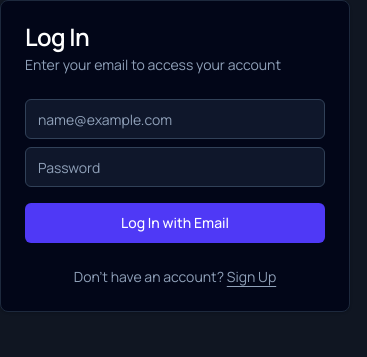
it: LoginForm › shows invalid credentials
This screenshot has width=367, height=357.
Type "ana@example.com" into the field with placeholder "name@example.com" at (175,119), box [25,99,325,139]
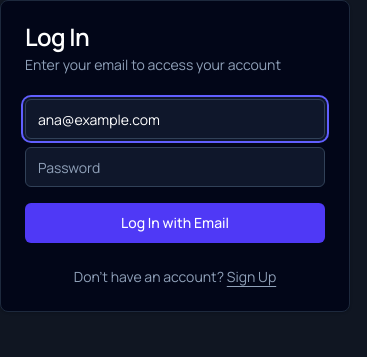
Type "bad-password-123" into the password field with placeholder "Password" at (175,167), box [25,147,325,187]
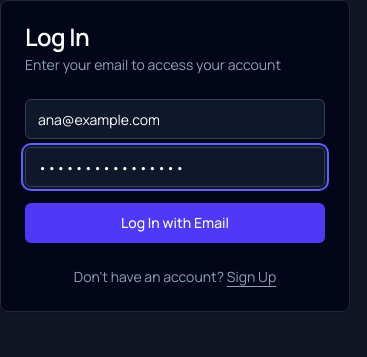
Click the button "Log In with Email" at (175,223), box [25,203,325,243]
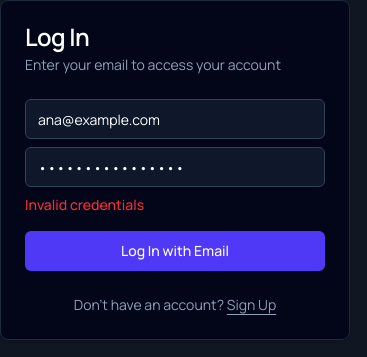
Expected: the button "Log In with Email" is enabled, [25,231,325,271]
Result: the text "Invalid credentials" is shown at [25,195,144,214]
